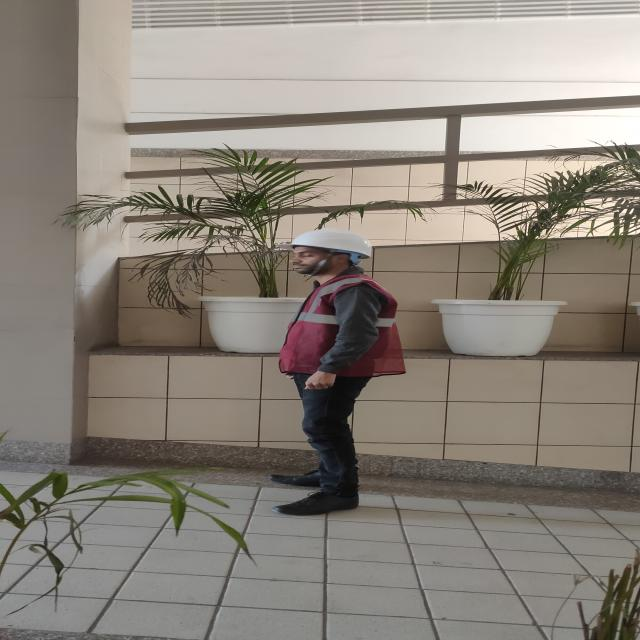safe: (277, 229, 406, 514)
